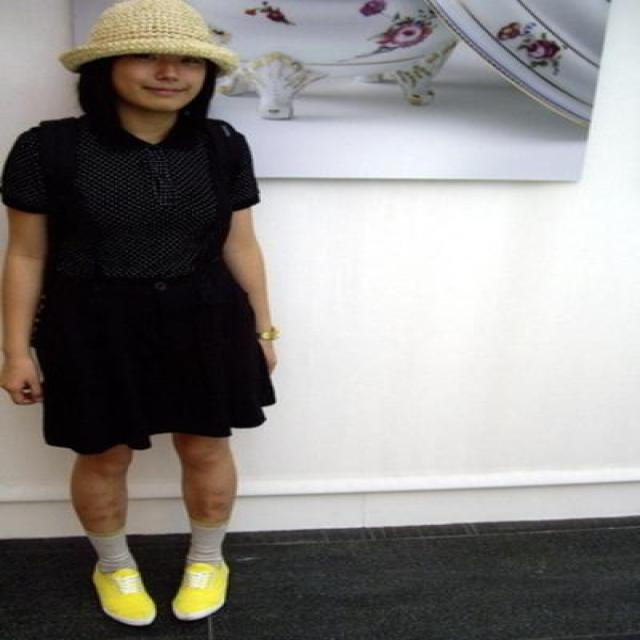dress: (0, 116, 274, 454)
hat: (59, 0, 230, 63)
shoe: (93, 562, 227, 624)
